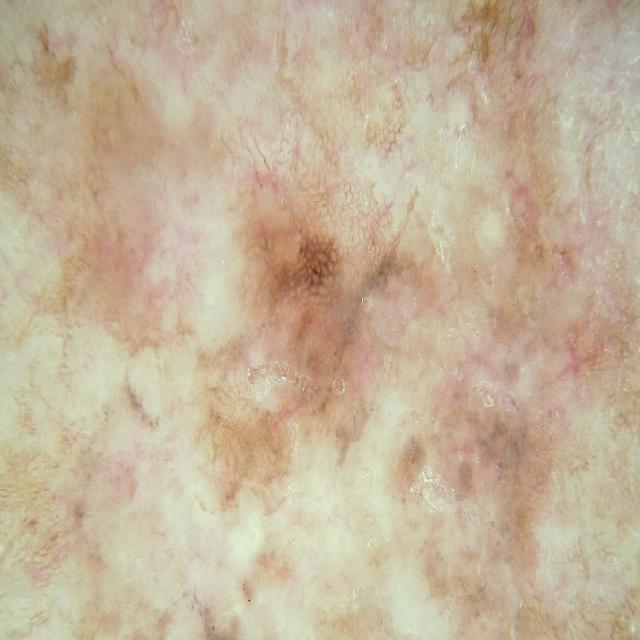Melanoma: (93, 134, 591, 640)
